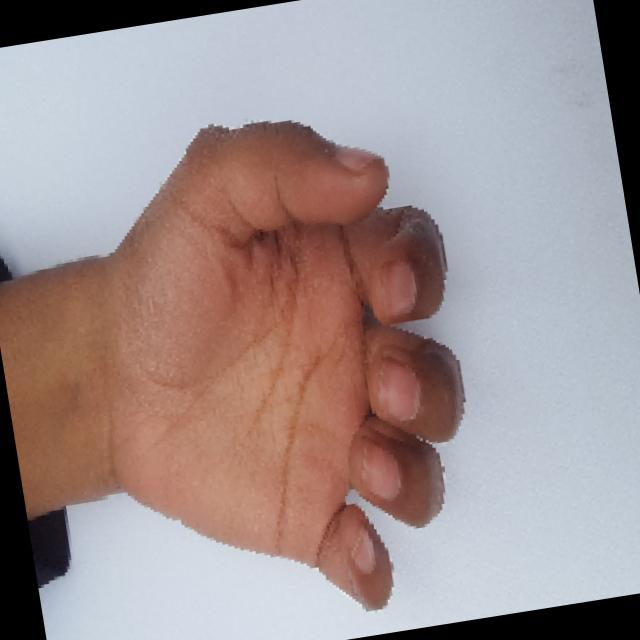Nail: (377, 358, 420, 421), (360, 441, 401, 499), (382, 261, 416, 314), (350, 525, 376, 573), (334, 145, 382, 171)
